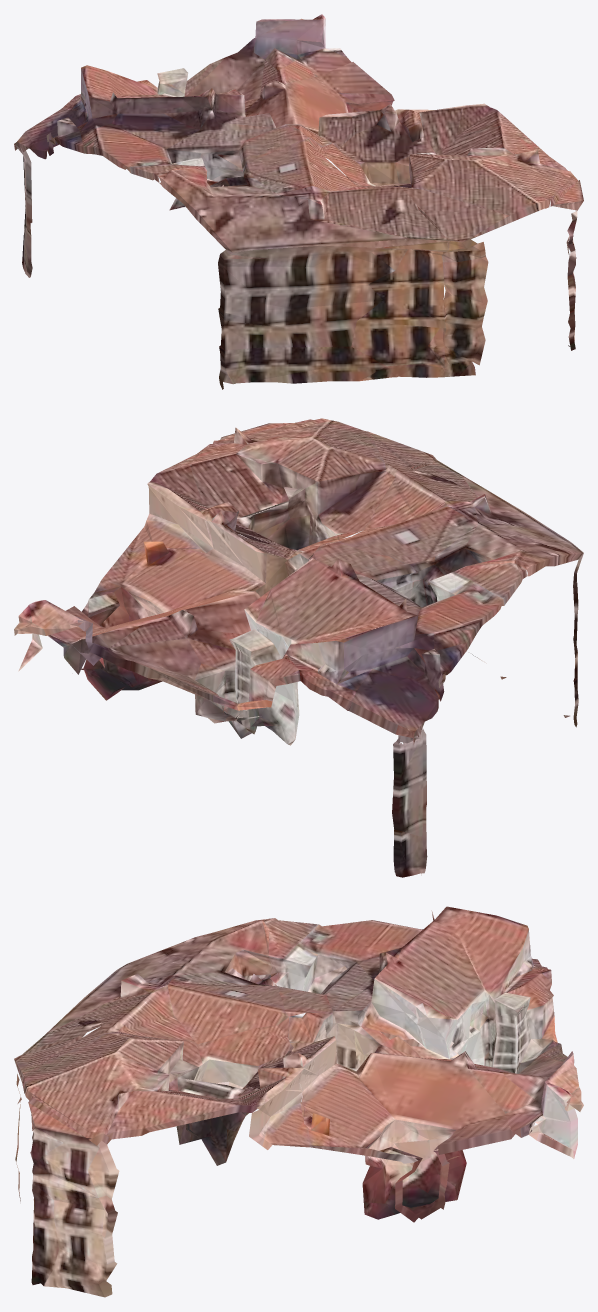
The picture shows the model from 3 angles, top to bottom: view 1: azimuth 30°, elevation 25°; view 2: azimuth 150°, elevation 25°; view 3: azimuth 270°, elevation 25°; orthographic projection. The views are drawn at different scales.
Parts seen in each view (by area): view 1: Mesh_0; view 2: Mesh_0; view 3: Mesh_0.
Part boxes in pixels (<box>): Mesh_0: <box>14,14,583,389</box>; Mesh_0: <box>14,418,583,877</box>; Mesh_0: <box>14,906,583,1297</box>.
Size of the model in its own units: 32.9 by 17.21 by 39.65.
Materials: 1 (1 with a texture image).
